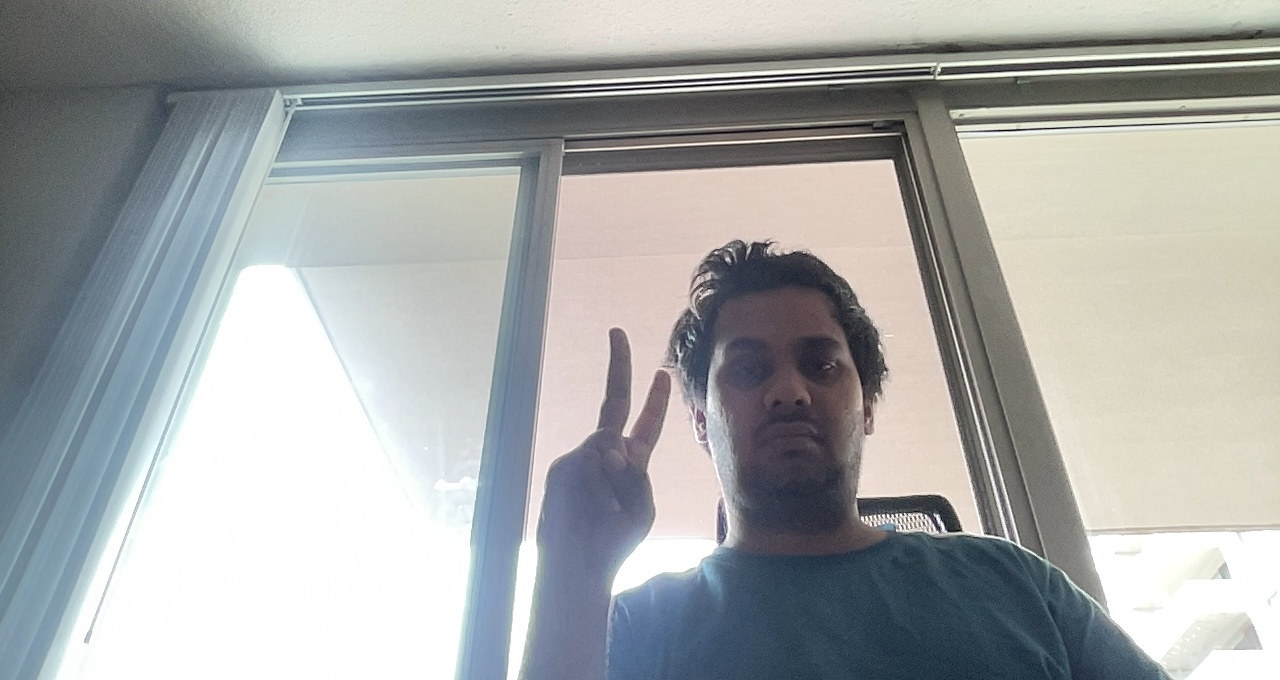peace sign: (539, 321, 671, 567)
